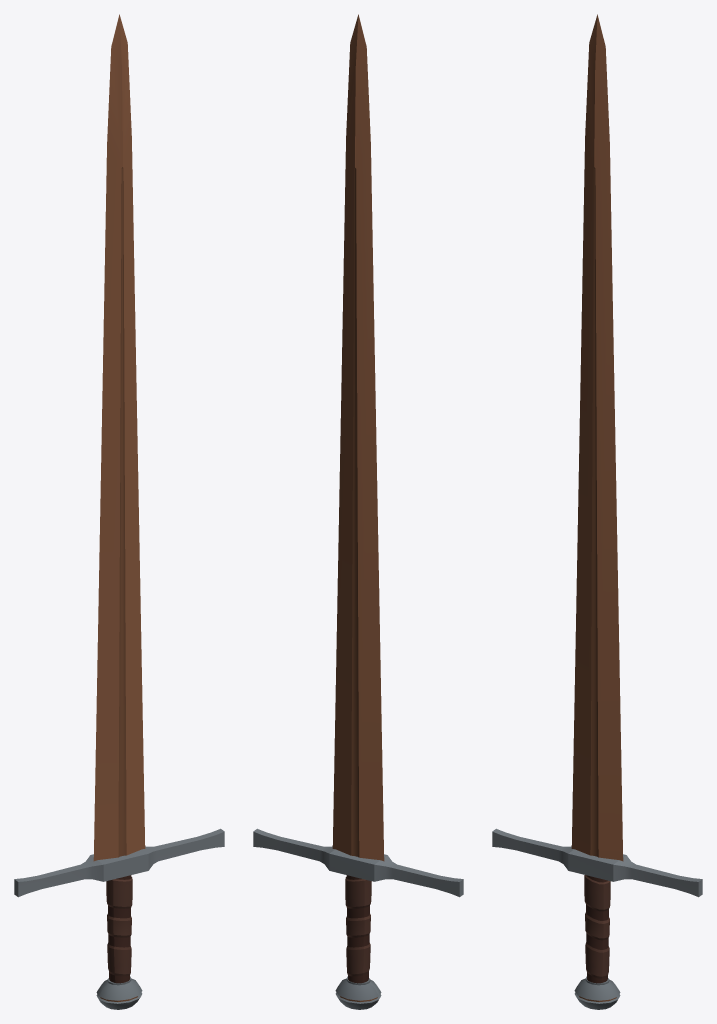
File: SM_Sword01_ArmingSword_4Bronze.fbx
3 views of the same model, side by side, from view 1: azimuth 30°, elevation 25°; view 2: azimuth 150°, elevation 25°; view 3: azimuth 330°, elevation 25° (orthographic).
Visible parts, largest first — view 1: Cube.425, Cube.426, Cylinder.522, Sphere.149; view 2: Cube.425, Cube.426, Cylinder.522, Sphere.149; view 3: Cube.425, Cube.426, Cylinder.522, Sphere.149.
Part boxes in pixels (x1=…): Cube.425: x1=93, y1=14, x2=145, y2=861; Cube.426: x1=14, y1=828, x2=224, y2=897; Cylinder.522: x1=106, y1=875, x2=132, y2=983; Sphere.149: x1=96, y1=976, x2=142, y2=1009; Cube.425: x1=332, y1=14, x2=384, y2=861; Cube.426: x1=253, y1=828, x2=463, y2=897; Cylinder.522: x1=345, y1=875, x2=371, y2=983; Sphere.149: x1=335, y1=976, x2=381, y2=1009; Cube.425: x1=571, y1=14, x2=623, y2=861; Cube.426: x1=492, y1=828, x2=702, y2=897; Cylinder.522: x1=584, y1=875, x2=610, y2=983; Sphere.149: x1=574, y1=976, x2=620, y2=1009.
Bounding box in the file's own units: 0.2 × 0.9179 × 0.0351.
